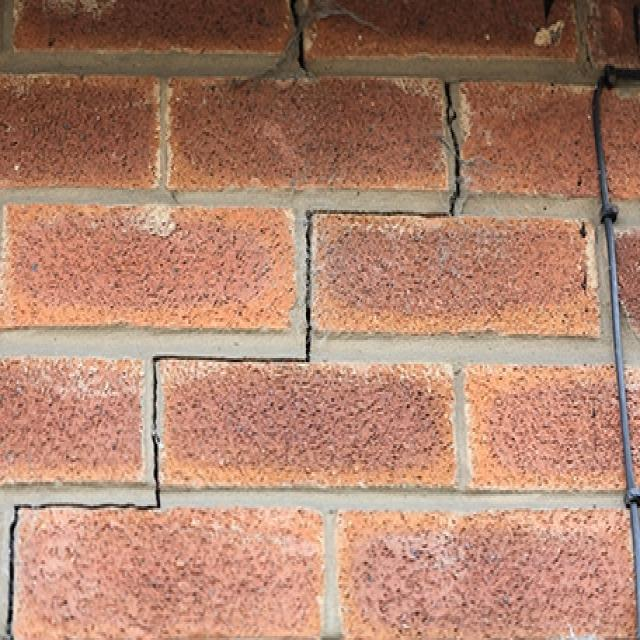Crack: (2, 78, 460, 638)
